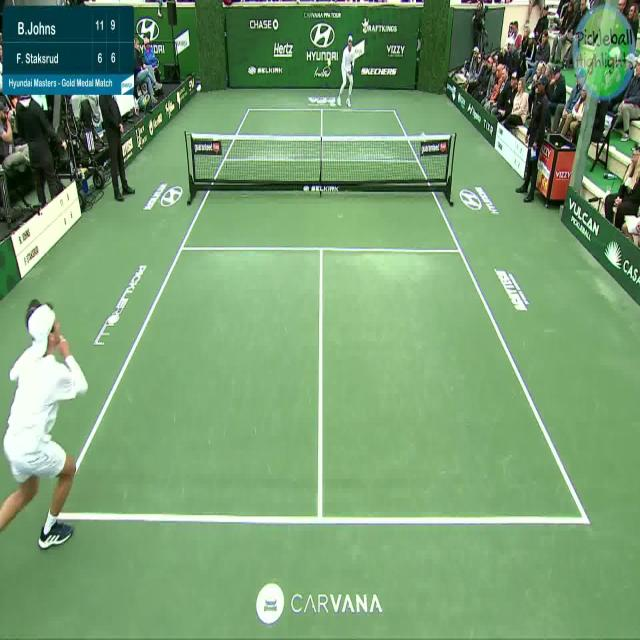ball: (326, 59, 333, 68)
